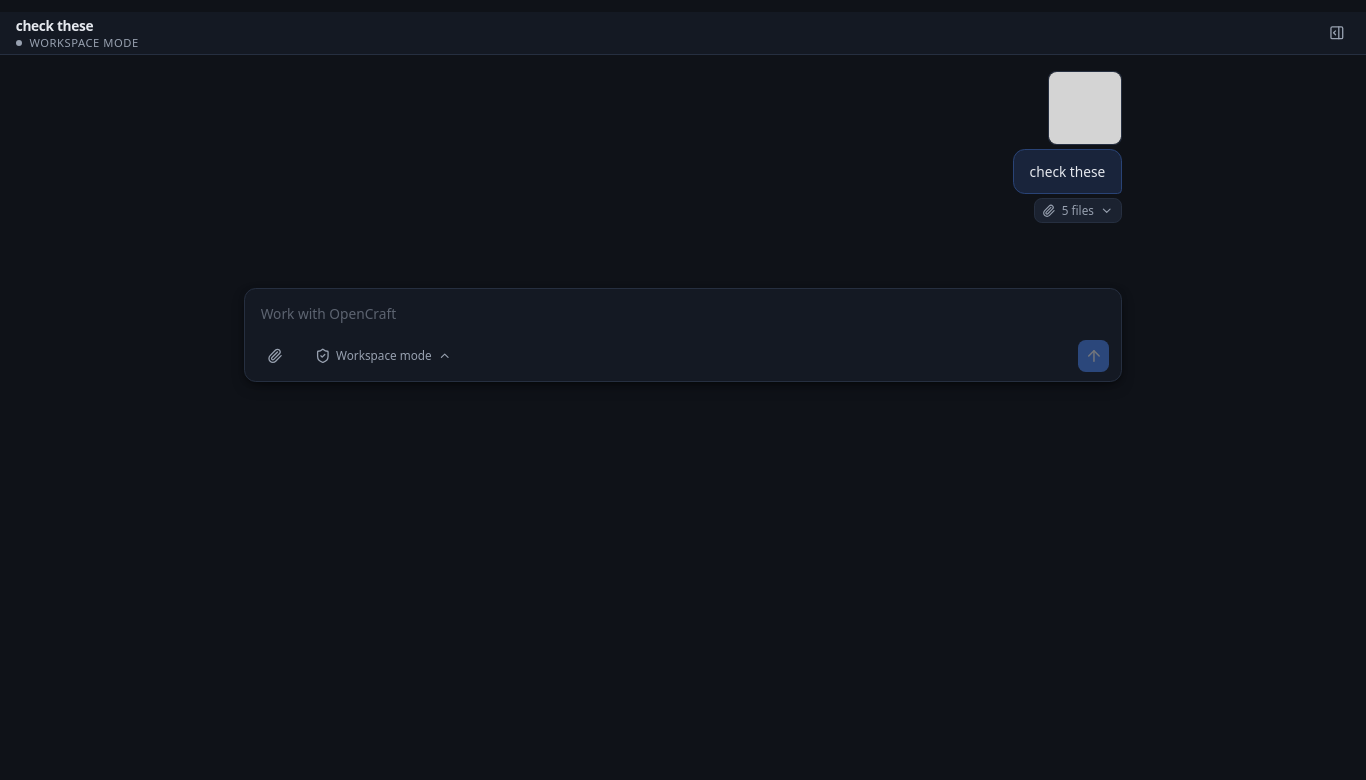
Test case: ChatView transcript windowing › renders images above the bubble and opens files in a floating list
expect the 2nd text "check these" is shown: met, box [1030,160,1105,183]
expect the element showing "check these" is shown: met, box [1013,149,1122,194]
Click the button "5 files" at (1078, 211), box [1034,198,1122,223]
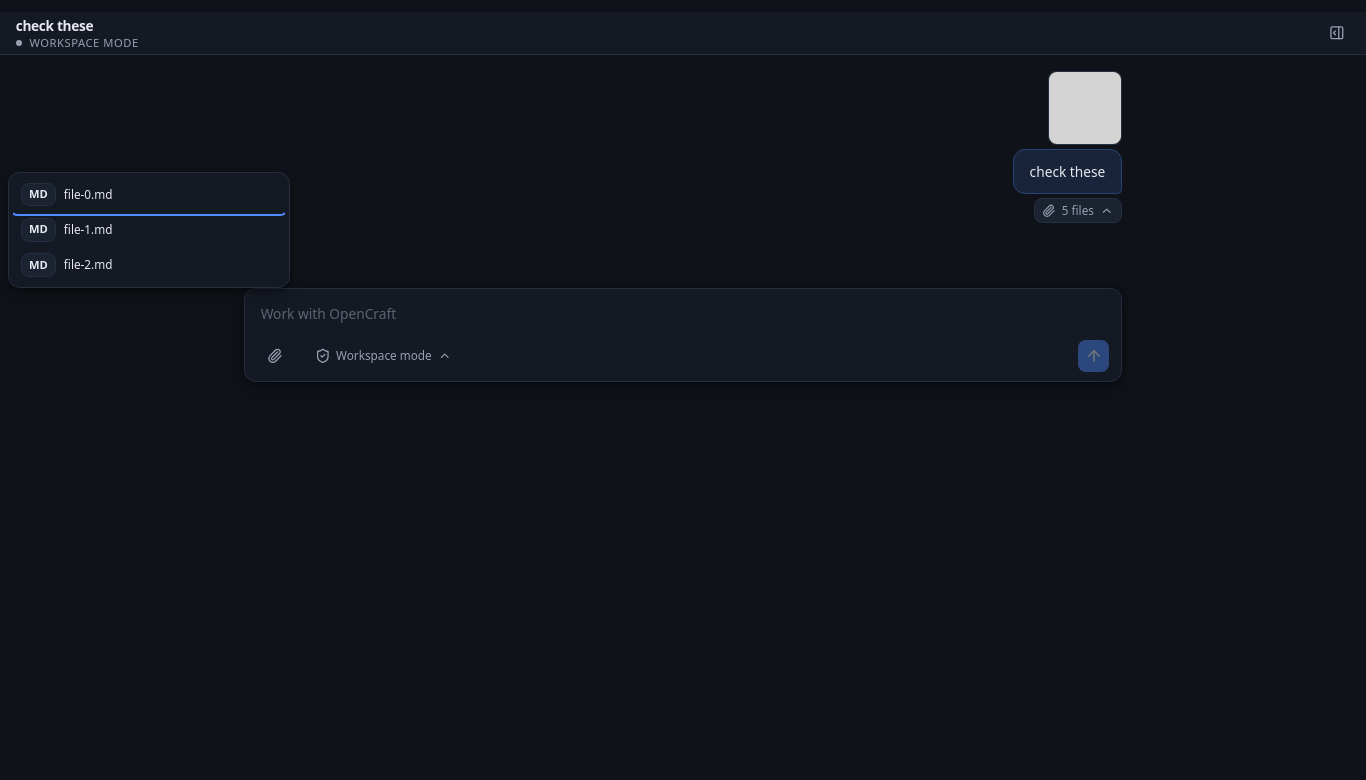
Click the element that starts with "check these" at (683, 396), box [0,12,1365,779]
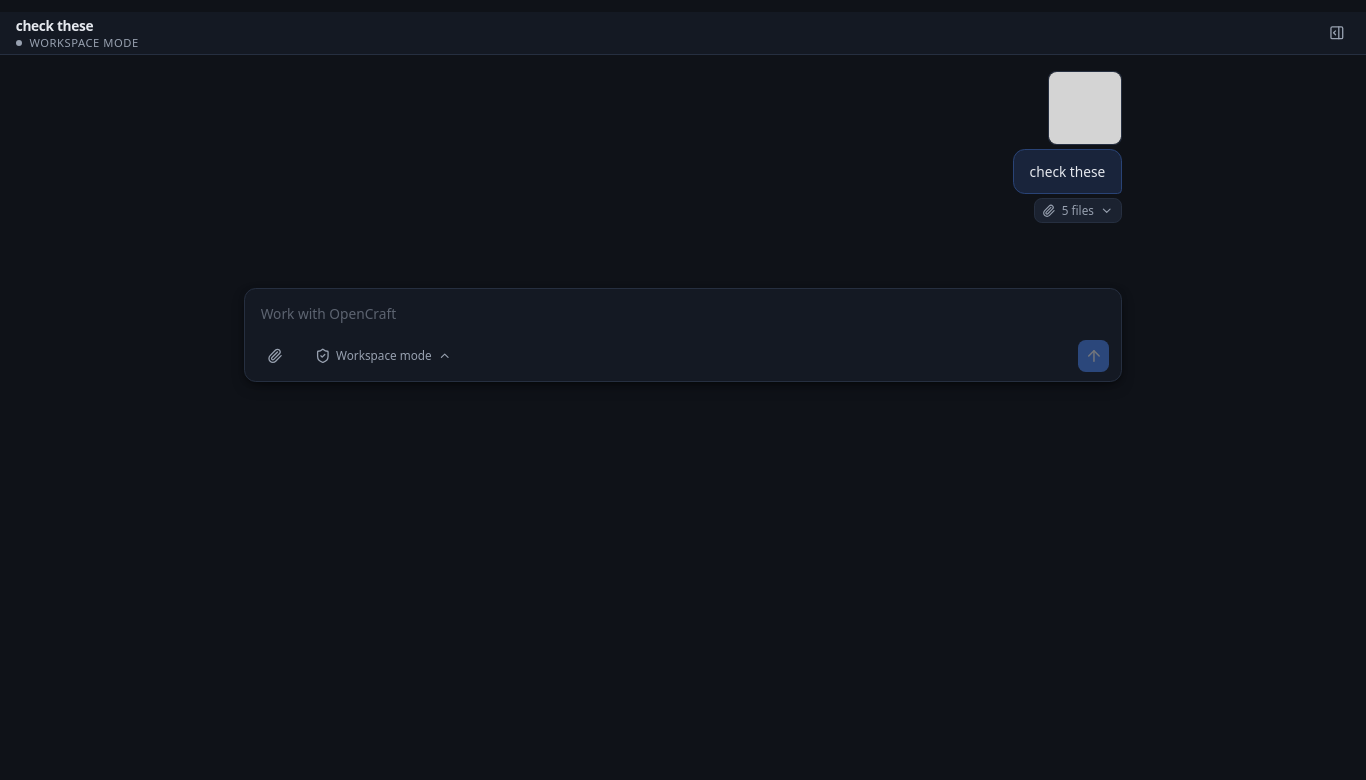
expect the menu item is gone: met
